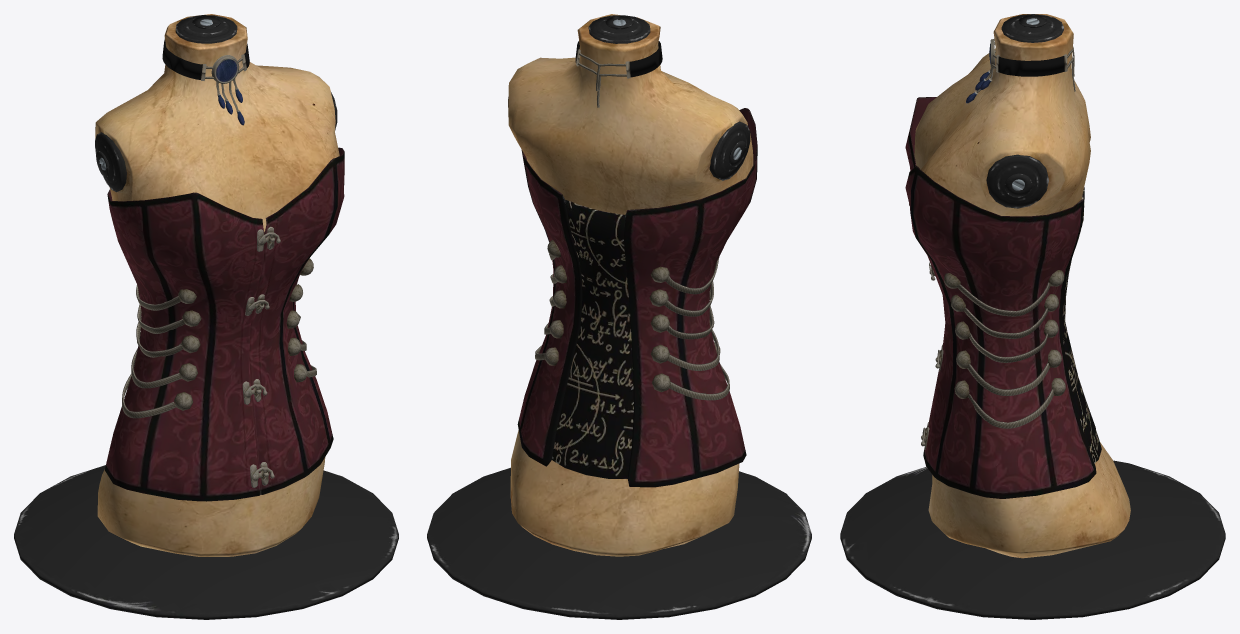
The model's file is Corset.glb.
3 renders of one model, left to right at view 1: azimuth 30°, elevation 25°; view 2: azimuth 150°, elevation 25°; view 3: azimuth 270°, elevation 25°, orthographic.
Parts seen in each view (by area): view 1: Corset; view 2: Corset; view 3: Corset.
Boxes of the visible parts, <box> form: Corset: <box>14,14,398,619</box>; Corset: <box>427,14,811,619</box>; Corset: <box>840,14,1225,619</box>.
Bounding box in the file's own units: 0.039 × 0.0578 × 0.039.
Materials: 1 (1 with a texture image).
